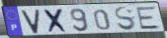0: (92, 8, 113, 31)
9: (69, 8, 90, 33)
E: (135, 5, 162, 31)
S: (114, 6, 138, 32)
V: (20, 9, 42, 35)
X: (42, 8, 70, 34)
